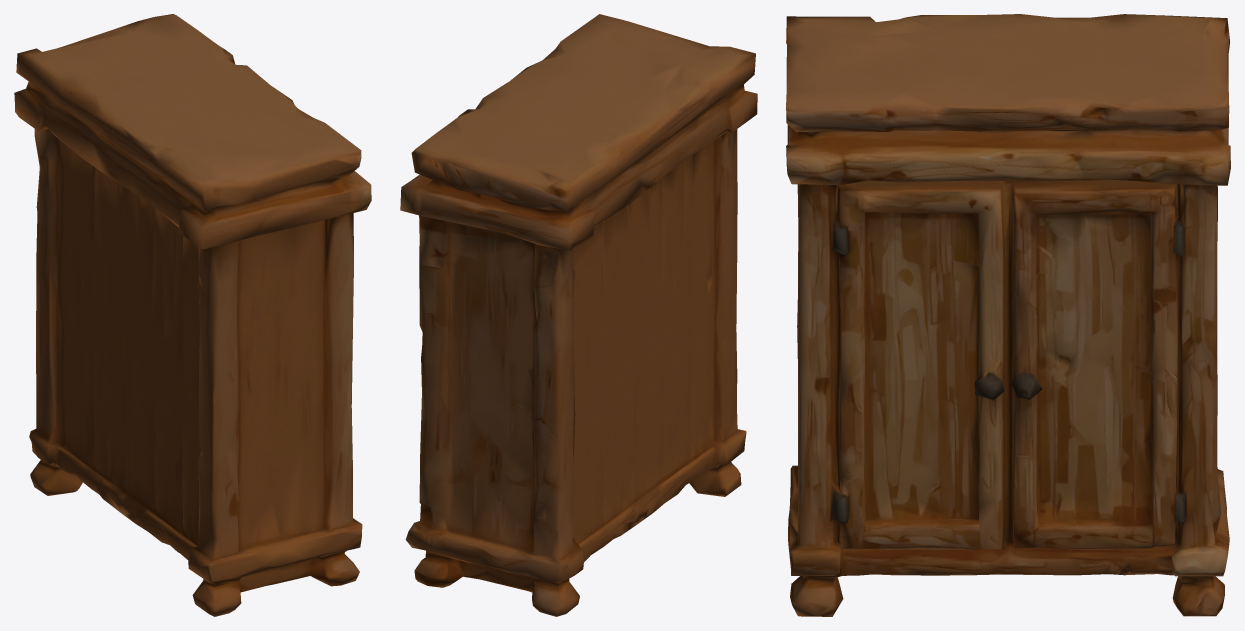
The model's file is wardrobe.glb.
3 renders of one model, left to right at view 1: azimuth 30°, elevation 25°; view 2: azimuth 150°, elevation 25°; view 3: azimuth 270°, elevation 25°, orthographic. The views are drawn at different scales.
Parts seen in each view (by area): view 1: tripo_node_5cfeea43-dd73-4271-8b30-78e57cfea12a; view 2: tripo_node_5cfeea43-dd73-4271-8b30-78e57cfea12a; view 3: tripo_node_5cfeea43-dd73-4271-8b30-78e57cfea12a.
Part boxes in pixels (x1,y1,x2,y2): tripo_node_5cfeea43-dd73-4271-8b30-78e57cfea12a: [14, 14, 371, 616]; tripo_node_5cfeea43-dd73-4271-8b30-78e57cfea12a: [400, 14, 757, 616]; tripo_node_5cfeea43-dd73-4271-8b30-78e57cfea12a: [786, 14, 1230, 616].
Bounding box in the file's own units: 0.4221 × 1 × 0.7809.
1 material, 1 textured.
